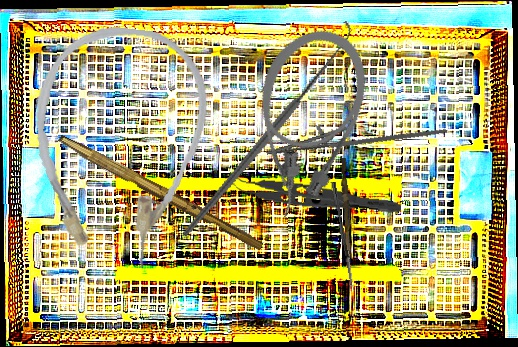Cannula: (18, 18, 216, 274), (223, 15, 383, 230)
Hook Surgical: (131, 19, 401, 239)
Needle Holder: (262, 93, 448, 178)
Pusher: (338, 157, 356, 271)
Scalpel Handle: (54, 133, 267, 253)
Surgical Spoon: (330, 181, 355, 292)
Tissue Forceps: (230, 170, 404, 217)
